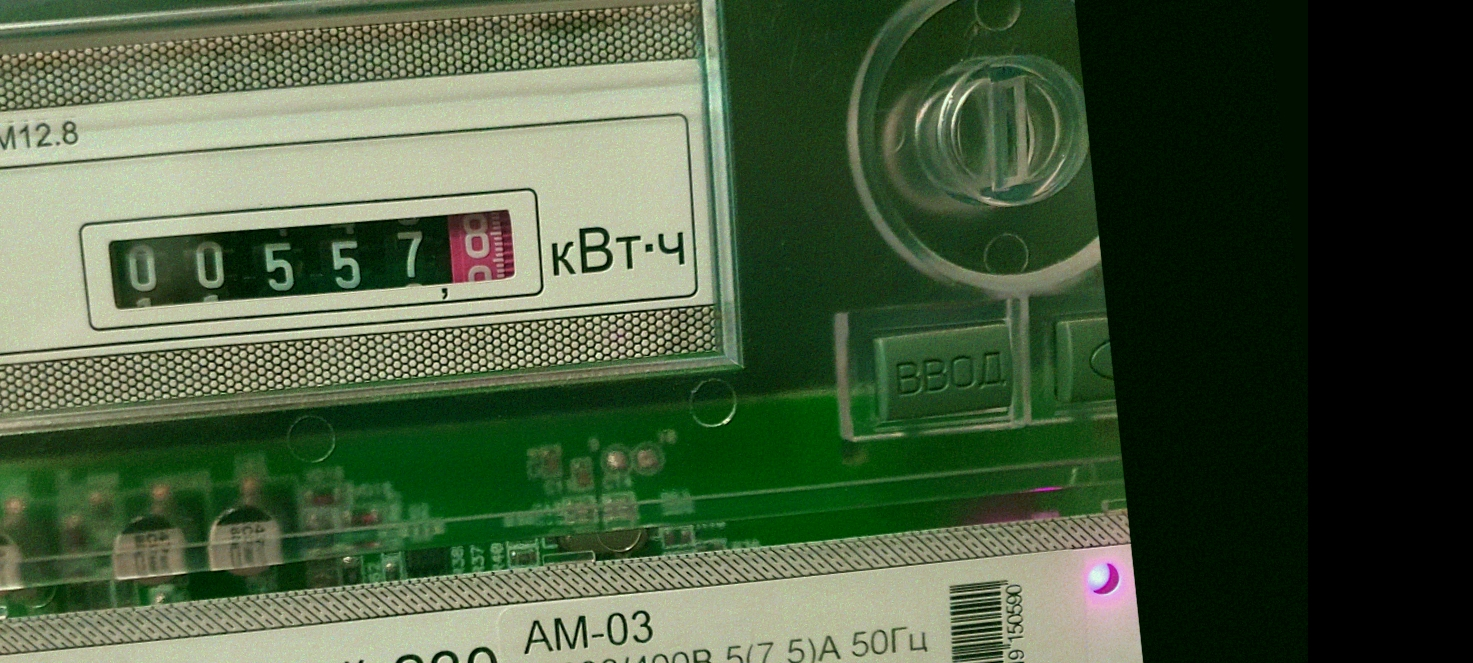0: (122, 238, 162, 297), (190, 236, 229, 292)
5: (325, 231, 368, 293), (259, 236, 299, 296)
7: (390, 224, 428, 282)
8: (460, 210, 493, 262)
screen: (73, 168, 552, 347)
